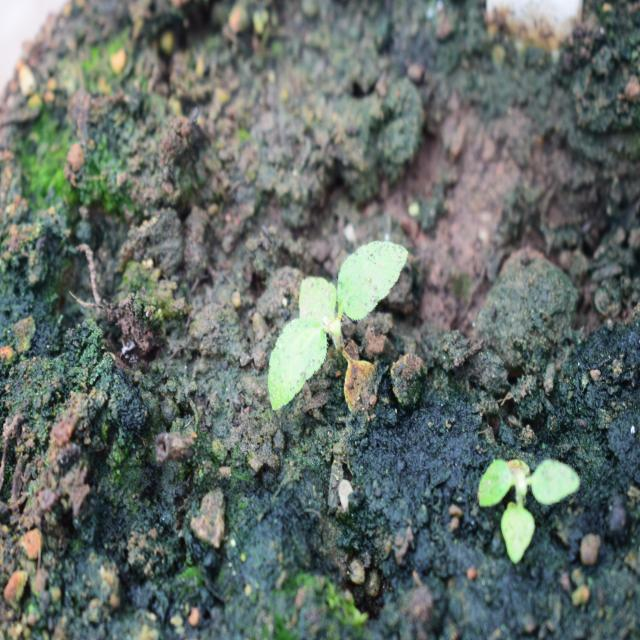billygoat_weed: (263, 233, 417, 439), (463, 424, 590, 580)
